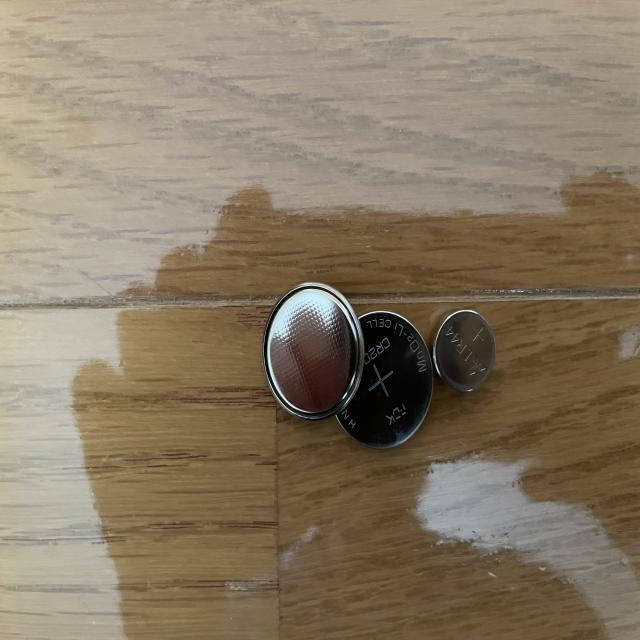COIN: (260, 278, 366, 423), (333, 308, 437, 453), (432, 308, 500, 395)
